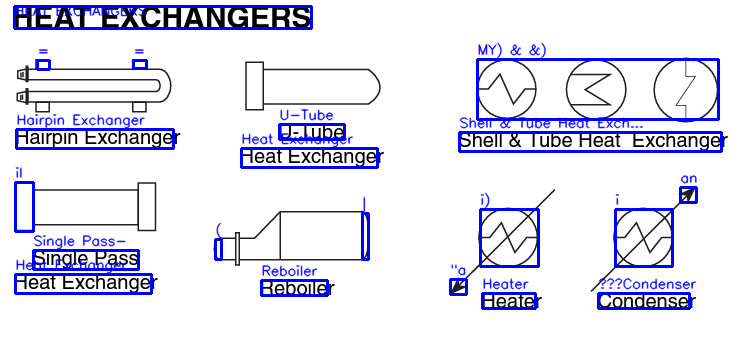TrocadordeCalor: (582, 184, 716, 297), (445, 178, 563, 299), (207, 204, 373, 272), (13, 56, 175, 114), (10, 175, 159, 236), (241, 56, 385, 113), (650, 55, 720, 124), (563, 56, 629, 122), (474, 55, 539, 121)
